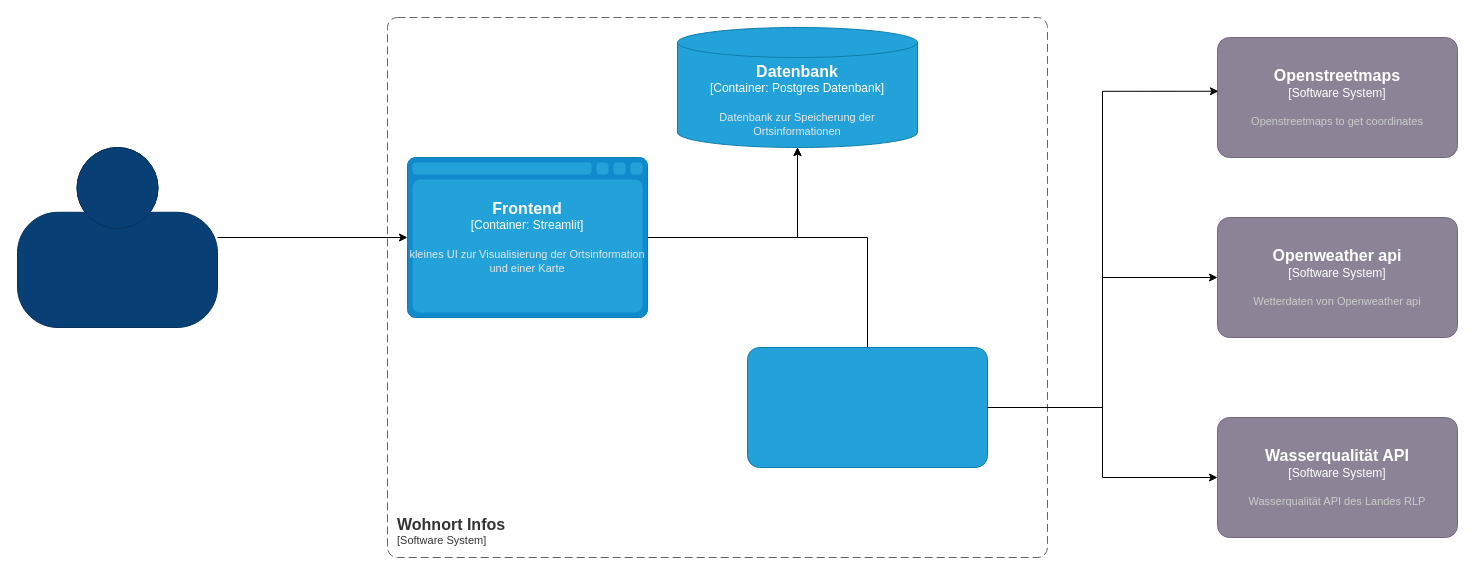
Image size: 1475x575. Some labels were removed from this diagram. The centre of each missing label's shape, as x and y in pixels:
Airflow pipelines [Container: Airflow] Airflow collecting and updating data: the point at 867,407
Wohnungssuchender [Person] Person die neuen Wohnort in RLP sucht: the point at 117,237
